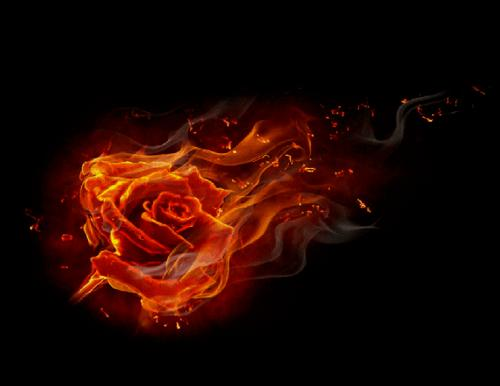fire: (192, 128, 392, 230)
